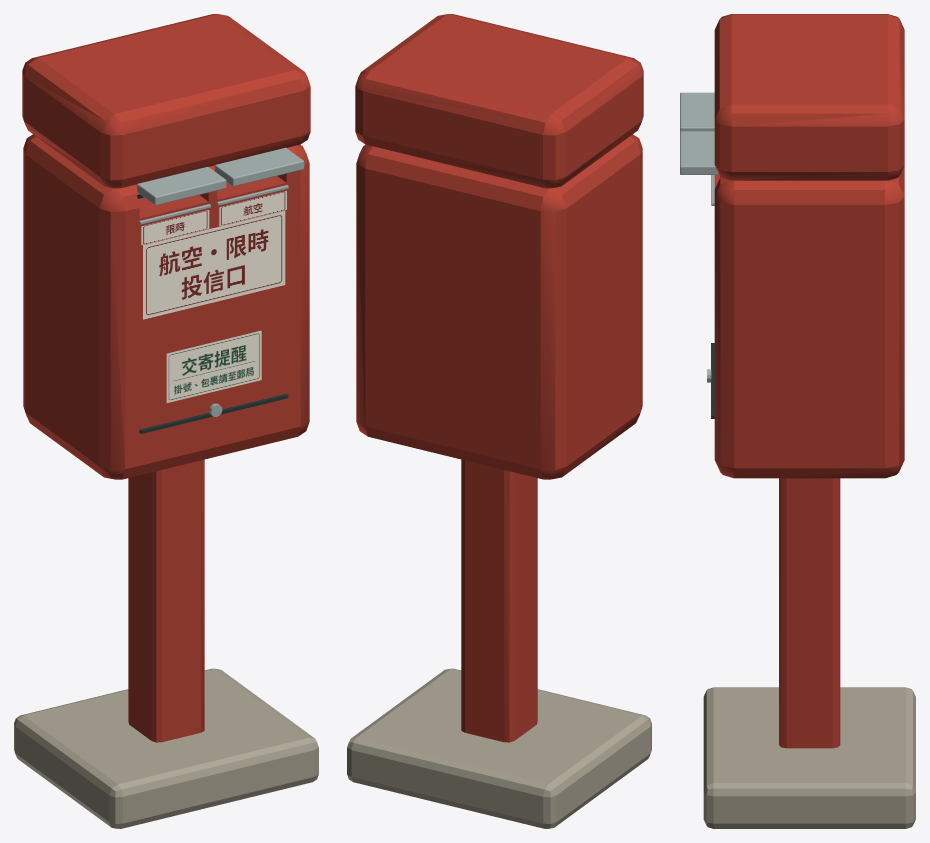
3 renders of one model, left to right at view 1: azimuth 30°, elevation 25°; view 2: azimuth 150°, elevation 25°; view 3: azimuth 270°, elevation 25°, orthographic. The views are drawn at different scales.
Visible parts, largest first — view 1: 01_Postbox_Red; view 2: 01_Postbox_Red; view 3: 01_Postbox_Red.
Part boxes in pixels (x1,y1,x2,y2): 01_Postbox_Red: (14, 14, 318, 828); 01_Postbox_Red: (347, 14, 651, 828); 01_Postbox_Red: (680, 14, 915, 828).
Bounding box in the file's own units: 0.44 × 1.43 × 0.422.
Materials: 6 (1 with a texture image).
